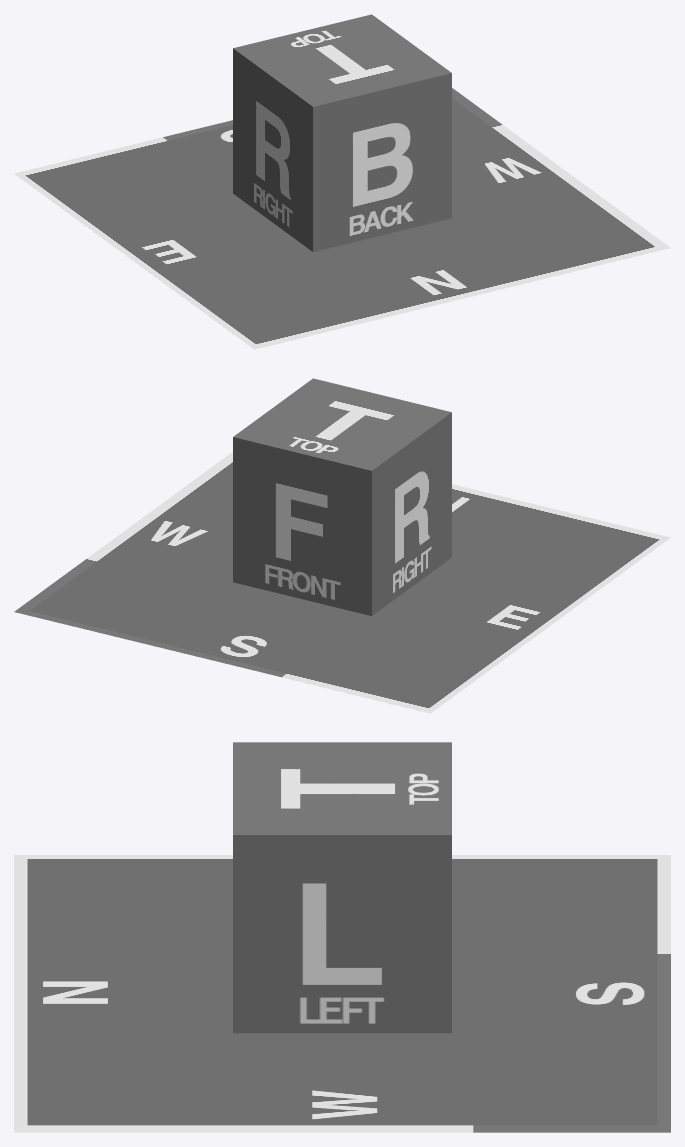
The model's file is XYZ.fbx.
3 renders of one model, top to bottom at view 1: azimuth 30°, elevation 25°; view 2: azimuth 150°, elevation 25°; view 3: azimuth 270°, elevation 25°, orthographic. The views are drawn at different scales.
Visible parts, largest first — view 1: Cube; view 2: Cube; view 3: Cube.
Boxes of the visible parts, x1=… form: Cube: x1=14, y1=14, x2=670, y2=349; Cube: x1=14, y1=378, x2=670, y2=713; Cube: x1=14, y1=742, x2=670, y2=1132.
Bounding box in the file's own units: 600 × 207 × 600.
Materials: 1 (1 with a texture image).
